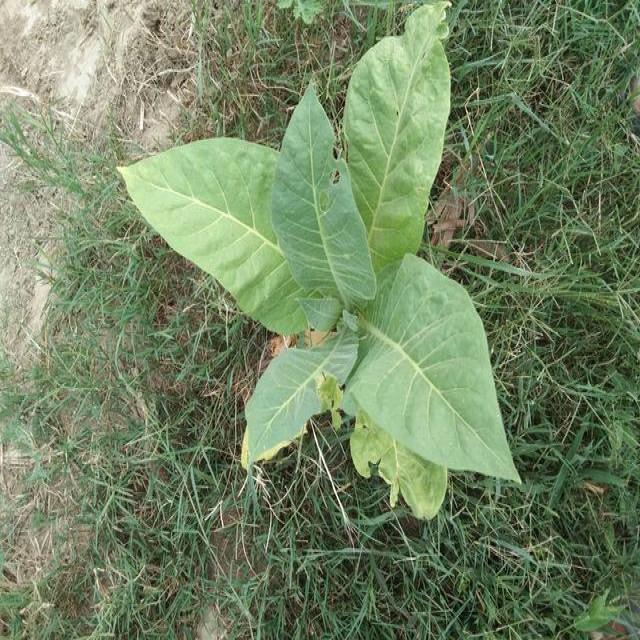crop: (112, 9, 527, 501)
